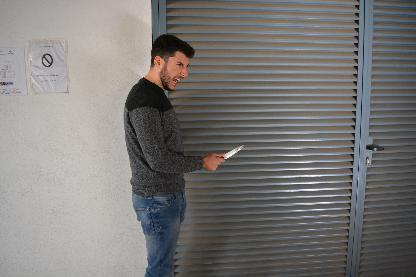knife: (213, 143, 245, 162)
